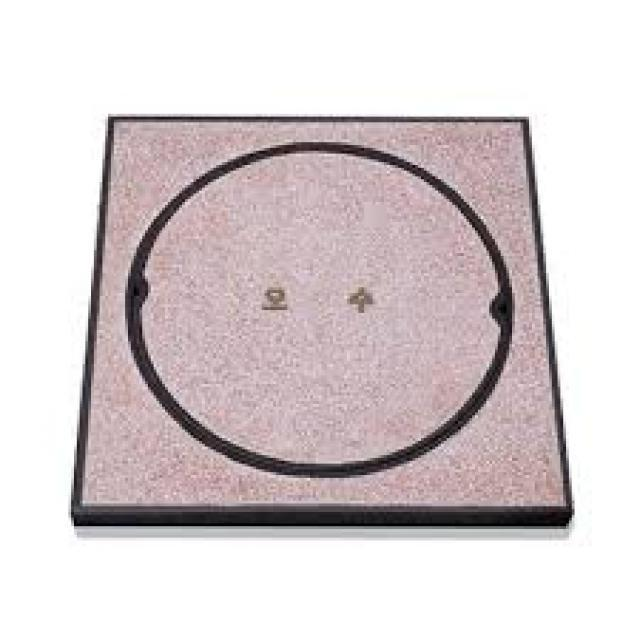manhole: (69, 110, 575, 538)
